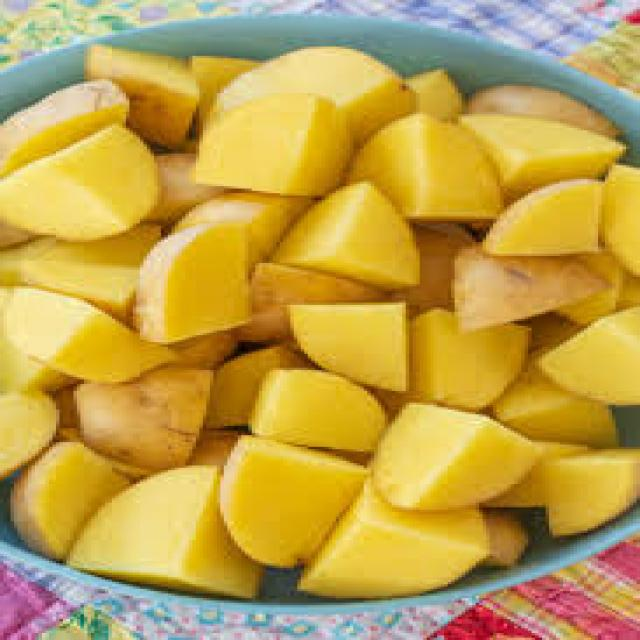Potato: (52, 456, 276, 628), (316, 108, 532, 236), (351, 392, 533, 530), (218, 422, 376, 579), (304, 490, 501, 603), (266, 179, 436, 297), (423, 229, 600, 340), (11, 275, 167, 387), (175, 97, 358, 192), (133, 220, 257, 352), (273, 285, 435, 385), (4, 144, 178, 236), (243, 358, 404, 454), (465, 108, 621, 195), (75, 357, 208, 458), (77, 43, 218, 136), (412, 308, 528, 411), (478, 189, 608, 262), (537, 447, 640, 536)
